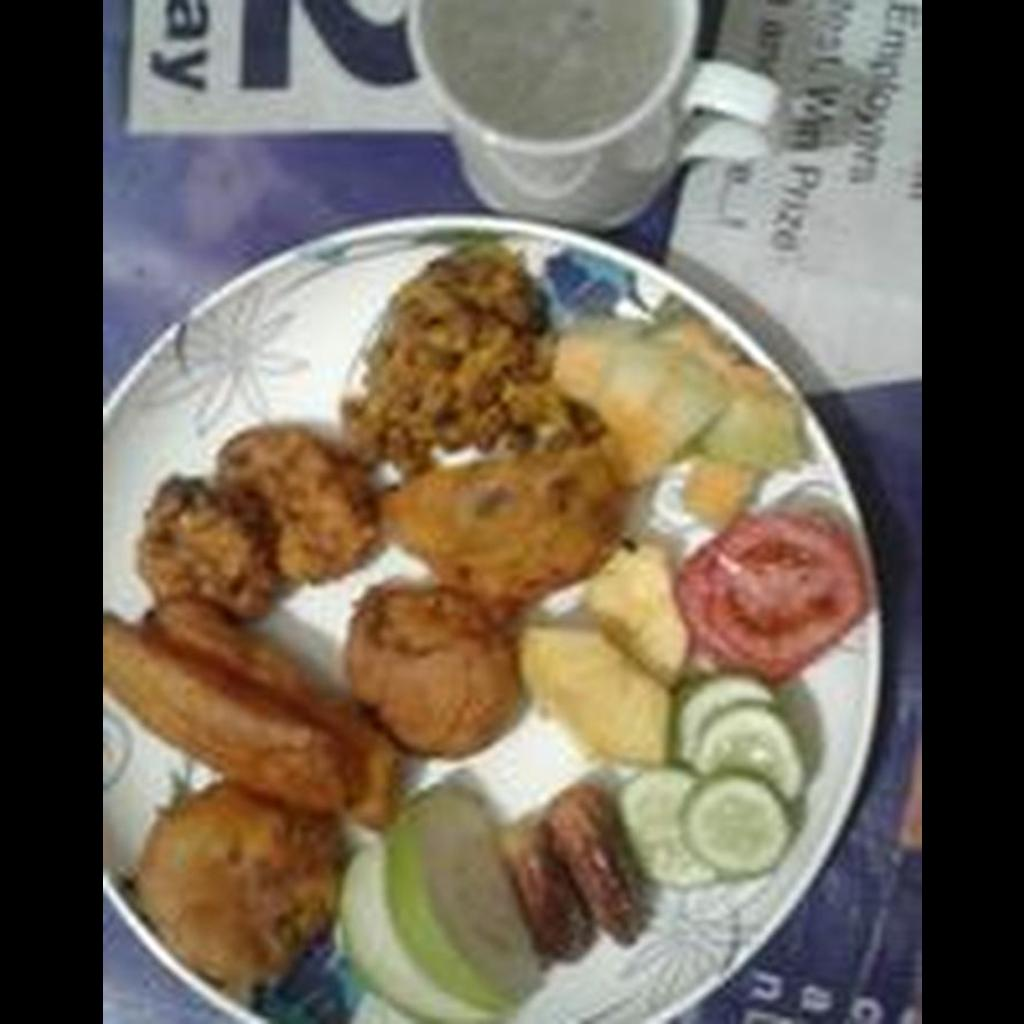beguni: (102, 606, 398, 821)
chop-alu: (350, 460, 618, 759), (135, 782, 347, 1000)
cucumber: (620, 677, 805, 887), (682, 774, 789, 878)
dates: (501, 789, 642, 951)
guava: (343, 800, 538, 1016)
papaya: (553, 308, 807, 528)
peyaju: (143, 425, 367, 614)
pineapple: (521, 544, 687, 763)
piyaju: (344, 245, 594, 476)
tomato: (673, 510, 871, 683)
